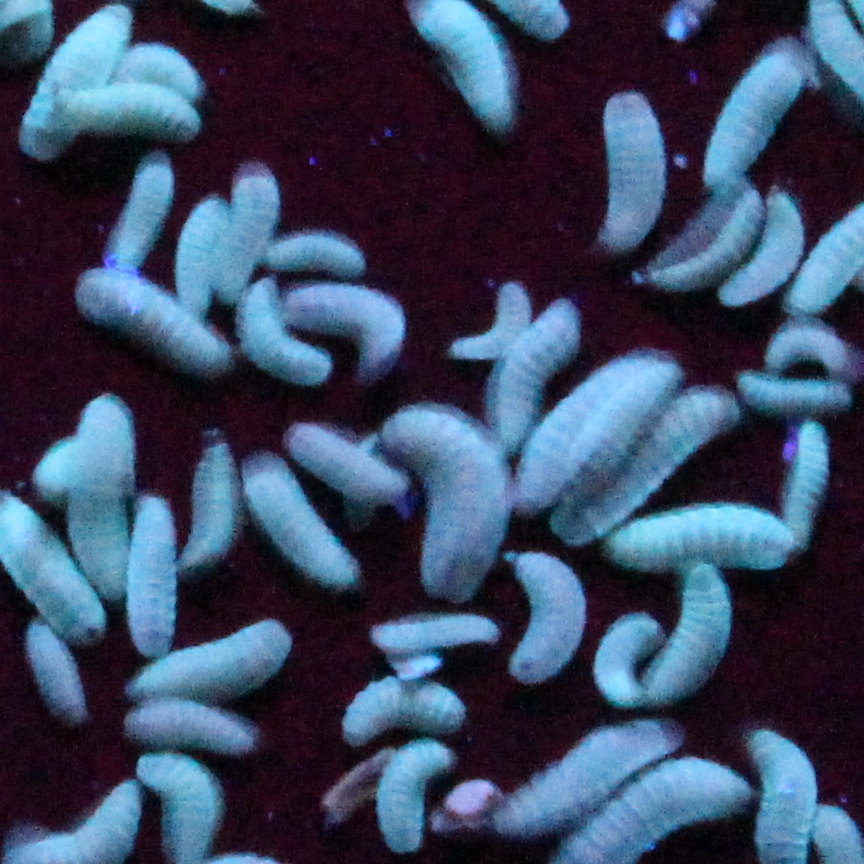larve: (505, 349, 685, 503), (379, 403, 516, 586), (487, 720, 667, 840), (2, 12, 119, 149), (402, 0, 536, 117), (87, 283, 227, 386), (702, 52, 807, 174), (645, 183, 753, 297), (130, 626, 293, 700), (253, 466, 359, 574), (593, 92, 667, 240), (502, 306, 582, 437), (290, 423, 405, 512), (719, 192, 805, 306), (122, 494, 182, 649), (653, 563, 713, 714), (173, 446, 245, 569), (367, 743, 447, 846), (342, 677, 473, 737), (107, 160, 167, 274), (510, 552, 562, 680), (365, 617, 496, 666), (782, 429, 833, 543), (445, 286, 527, 354), (133, 706, 256, 746), (33, 632, 87, 709), (179, 200, 213, 303)
